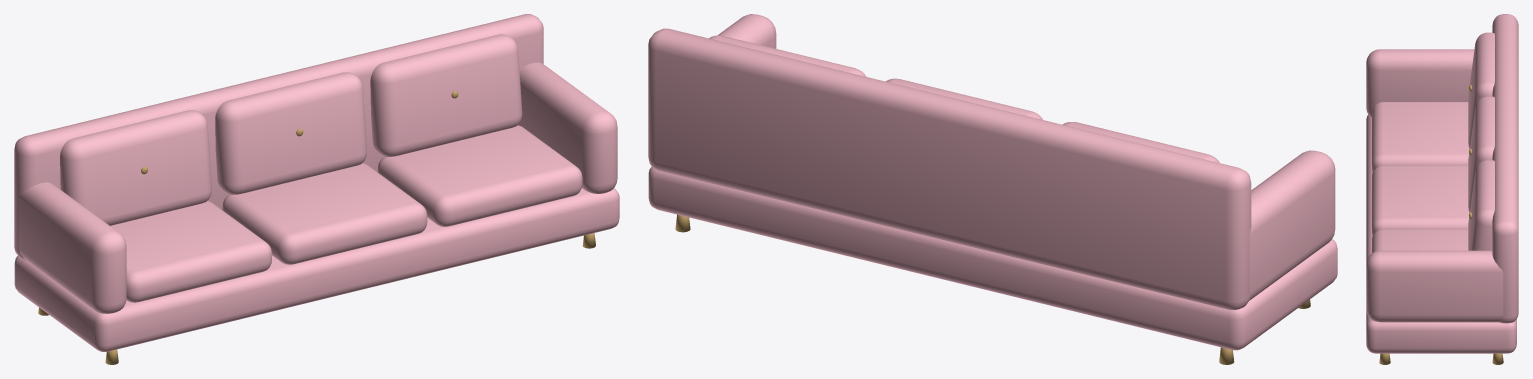
Rendered from sofa_3.glb.
3 views of the same model, side by side, from view 1: azimuth 30°, elevation 25°; view 2: azimuth 150°, elevation 25°; view 3: azimuth 270°, elevation 25° (orthographic). The views are drawn at different scales.
Visible parts, largest first — view 1: Cone; view 2: Cone; view 3: Cone.
Boxes of the visible parts, <box> form: Cone: <box>14,14,619,364</box>; Cone: <box>648,14,1337,364</box>; Cone: <box>1366,14,1518,364</box>.
Bounding box in the file's own units: 2.7 × 0.86 × 0.81.
